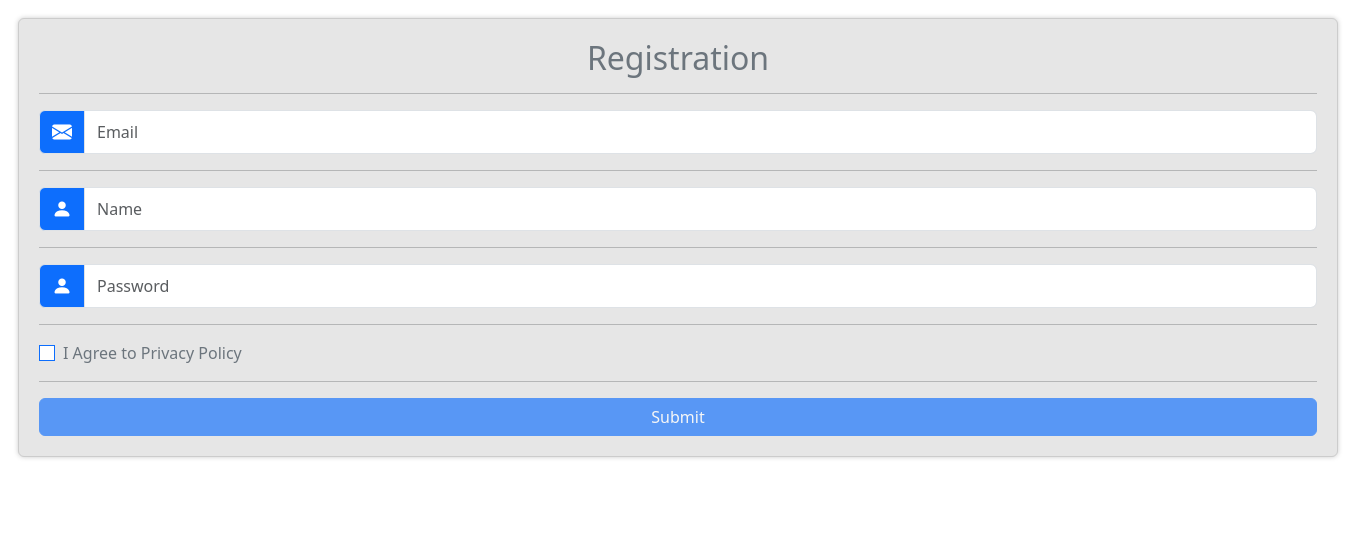
Test: Pruebas en <FormularioRegistro /> › debe de mostrar mensaje si la validación de campos es correcta
This screenshot has width=1357, height=558.
Type "nombre" into the field labelled "Name" at (700, 209), box 84,187 -> 1317,231
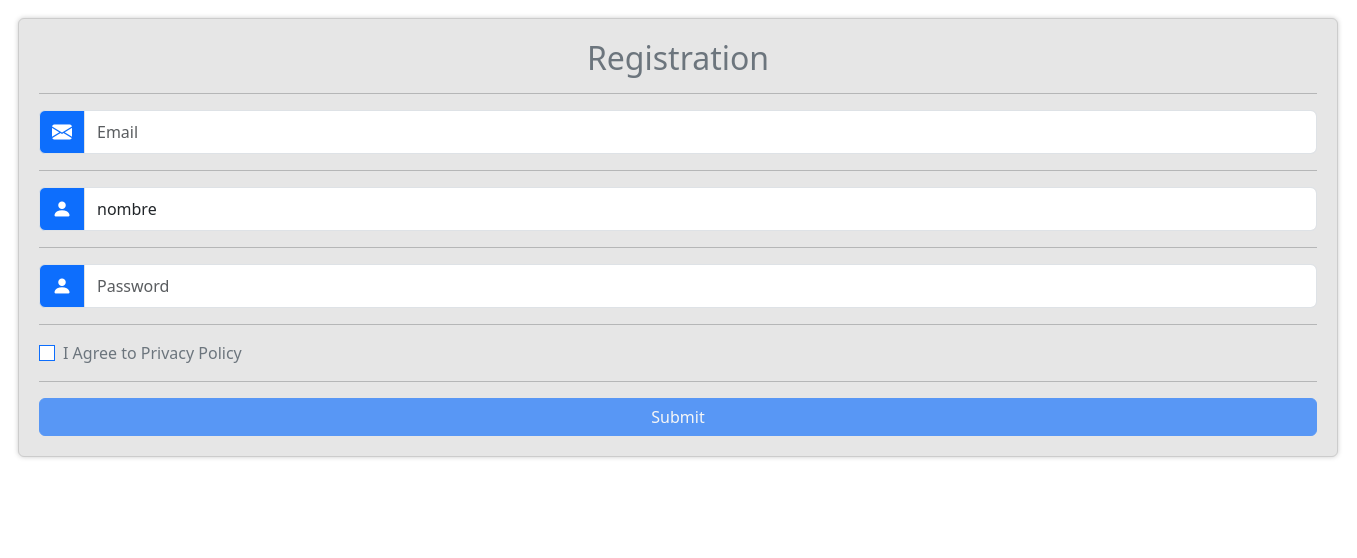
Type "prueba@correo.com" into the field labelled "Email" at (700, 132), box 84,110 -> 1317,154
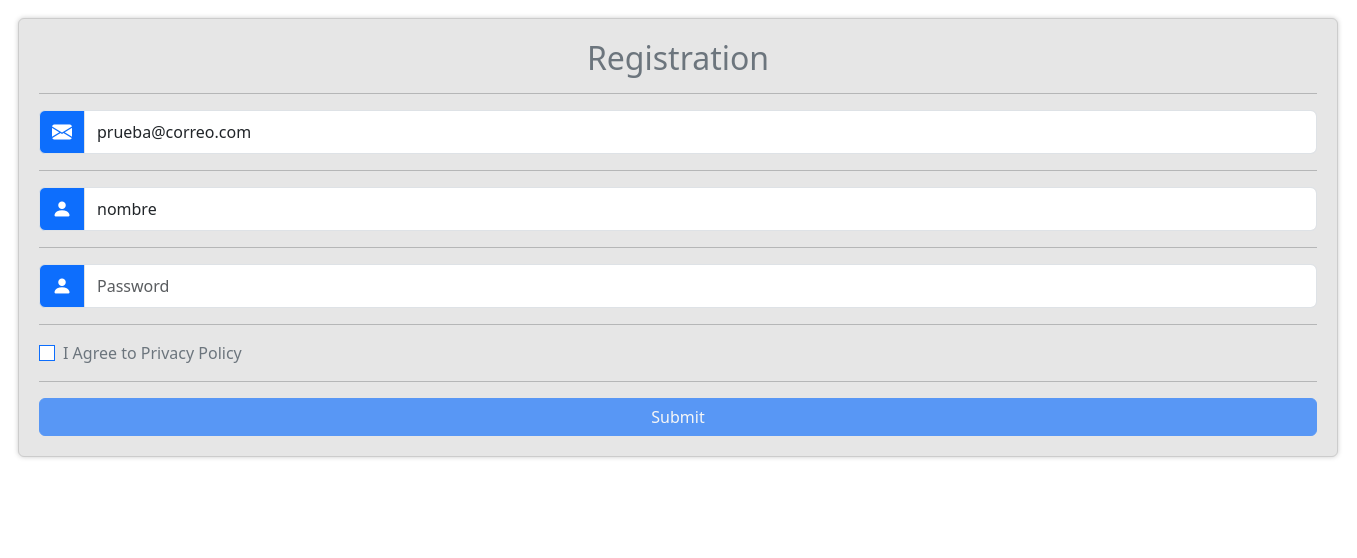
Type "aaaAAA12$" into the password field with test id "password" at (700, 286), box 84,264 -> 1317,308
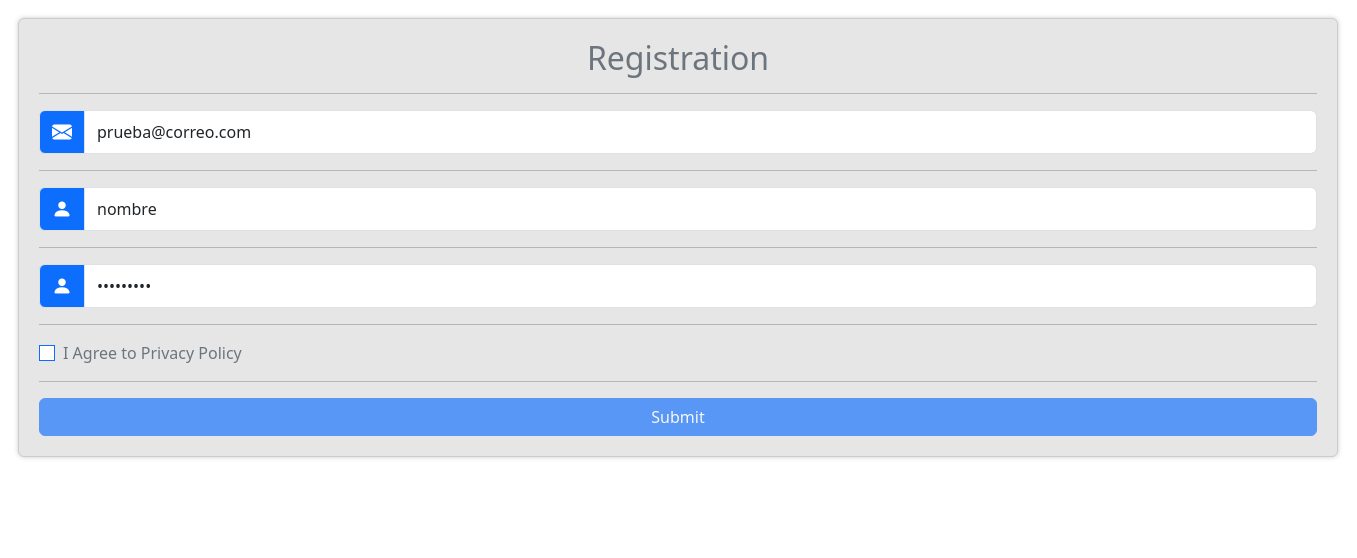
Click the checkbox named "check-privacy-policy" at (47, 353), box 39,345 -> 55,361
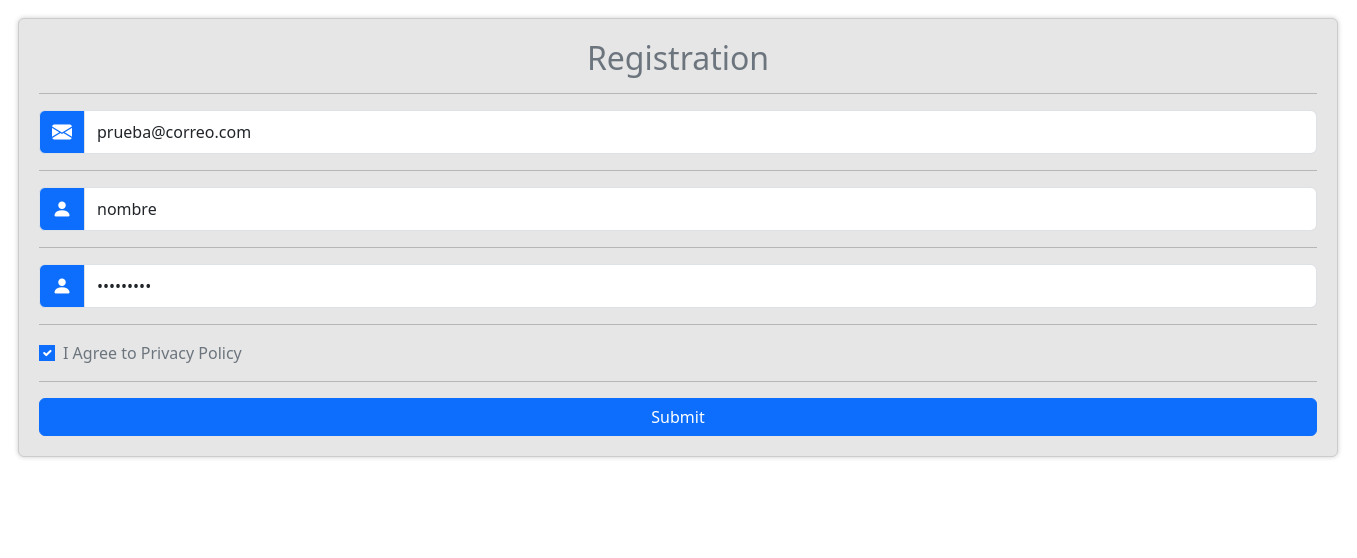
Click the button with aria-label "btn-submit" at (678, 417), box 39,398 -> 1317,436
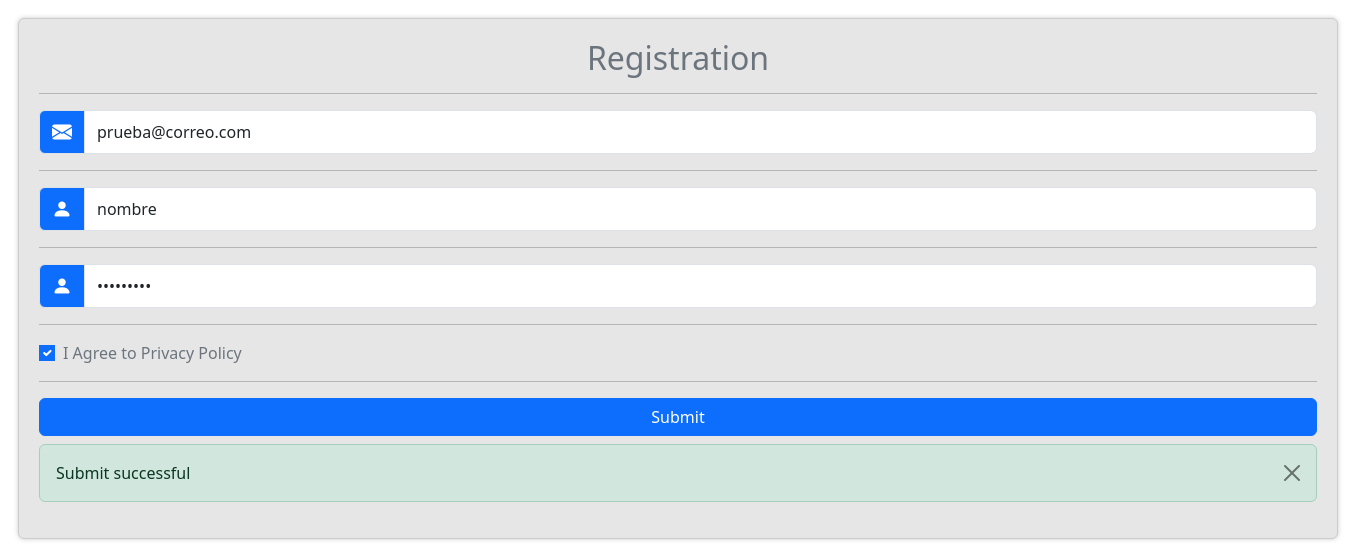
Expected: the text "Submit successful" is shown, 39,444 -> 1317,502
